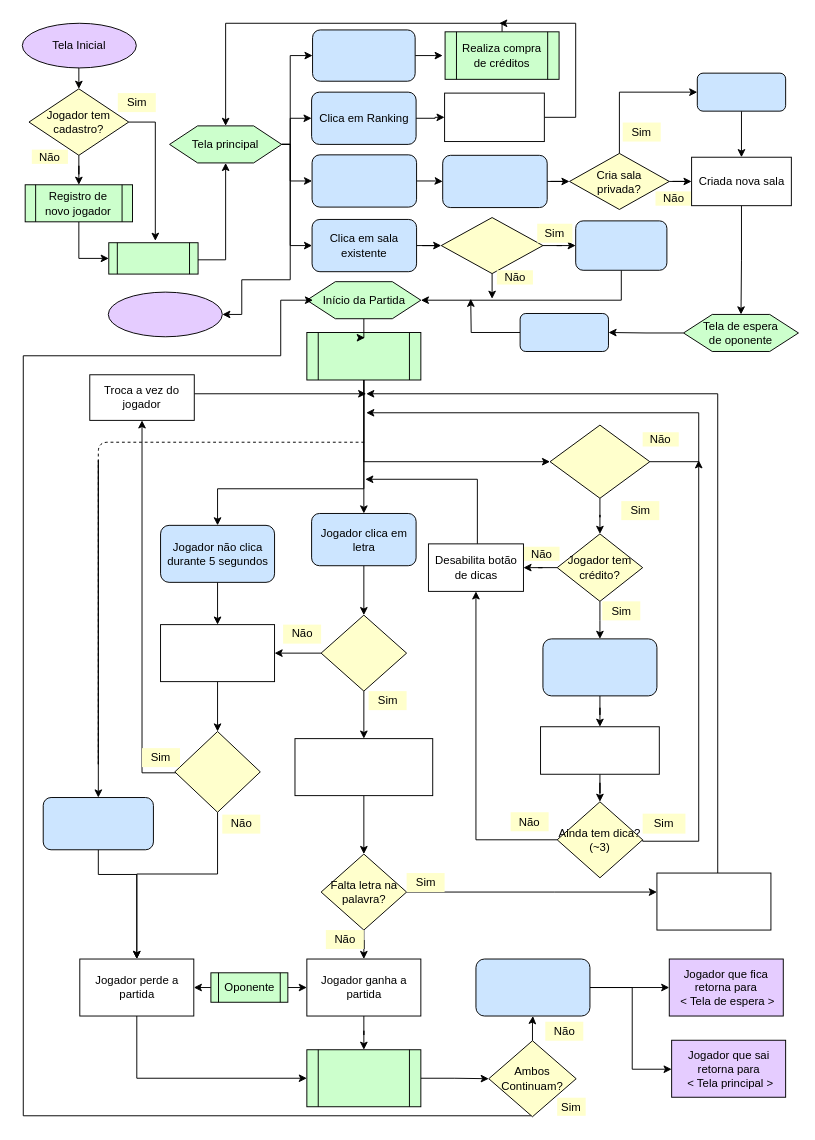
Some shapes in this 815 by 1140 pixel diagram are drawn without their labels. Each missing label, with the centre of its shape:
"Botão de dicas habilitado?" goes at point (599, 461).
"Clica em comprar crédito" goes at point (363, 55).
"Clica em nova sala" goes at point (364, 180).
"Digita senha" goes at point (741, 91).
"Digita senha da sala" goes at point (621, 245).
"Escolhe tema" goes at point (494, 181).
"Exibe dica e subtrai crédito do jogador" goes at point (599, 750).
"Fim da Partida" goes at point (363, 1078).
"Jogador clica no botão de dica" goes at point (599, 667).
"Jogador desiste (sai durante a partida)" goes at point (97, 823).
"Jogador perde vida" goes at point (217, 653).
"Jogador sai da sala" goes at point (532, 987).
"Jogador tem vida?" goes at point (217, 771).
"Letra está contida na palavra?" goes at point (363, 652).
"Letra é exibida na palavra e desabilitada do alfabeto" goes at point (363, 767).
"Login" goes at point (153, 258).
"Logout" goes at point (164, 314).
"Mesmo jogador continua" goes at point (713, 901).
"Oponente entra" goes at point (563, 332).
"Random da palavra e jogador inicial" goes at point (363, 356).
"Sala privada?" goes at point (491, 245).
"Visualiza Ranking geral" goes at point (494, 117).
